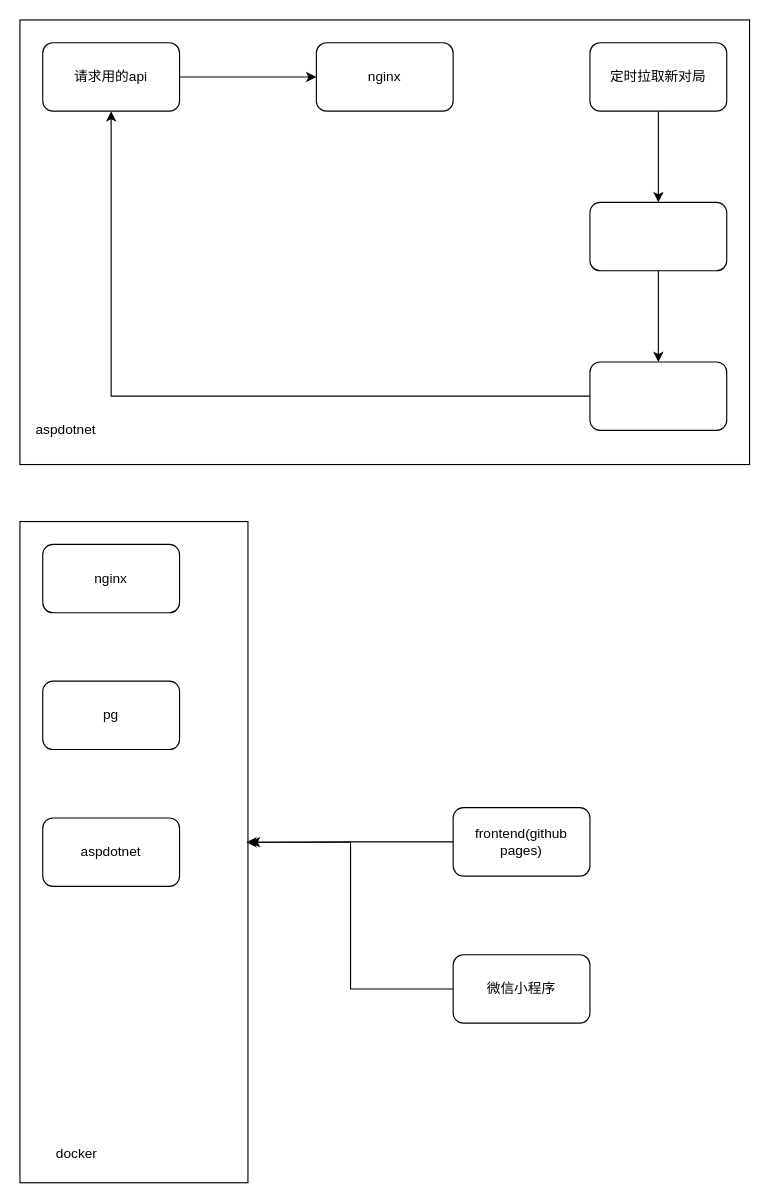
Some shapes in this 770 by 1203 pixel diagram are drawn without their labels. Here are the shapes that lost their labels. From the top down, the centre of each, then its label:
pixel 658 236: 解析
pixel 658 395: 存入数据库
